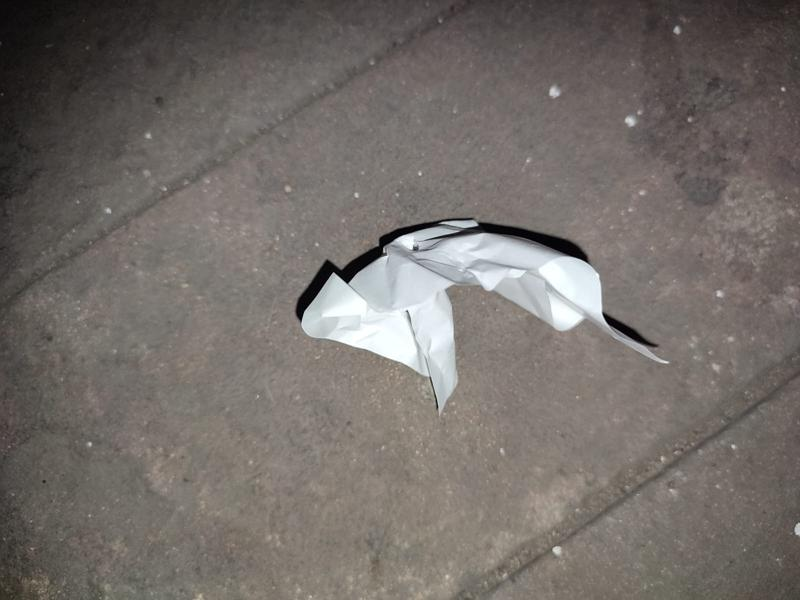papel: (302, 219, 667, 408)
